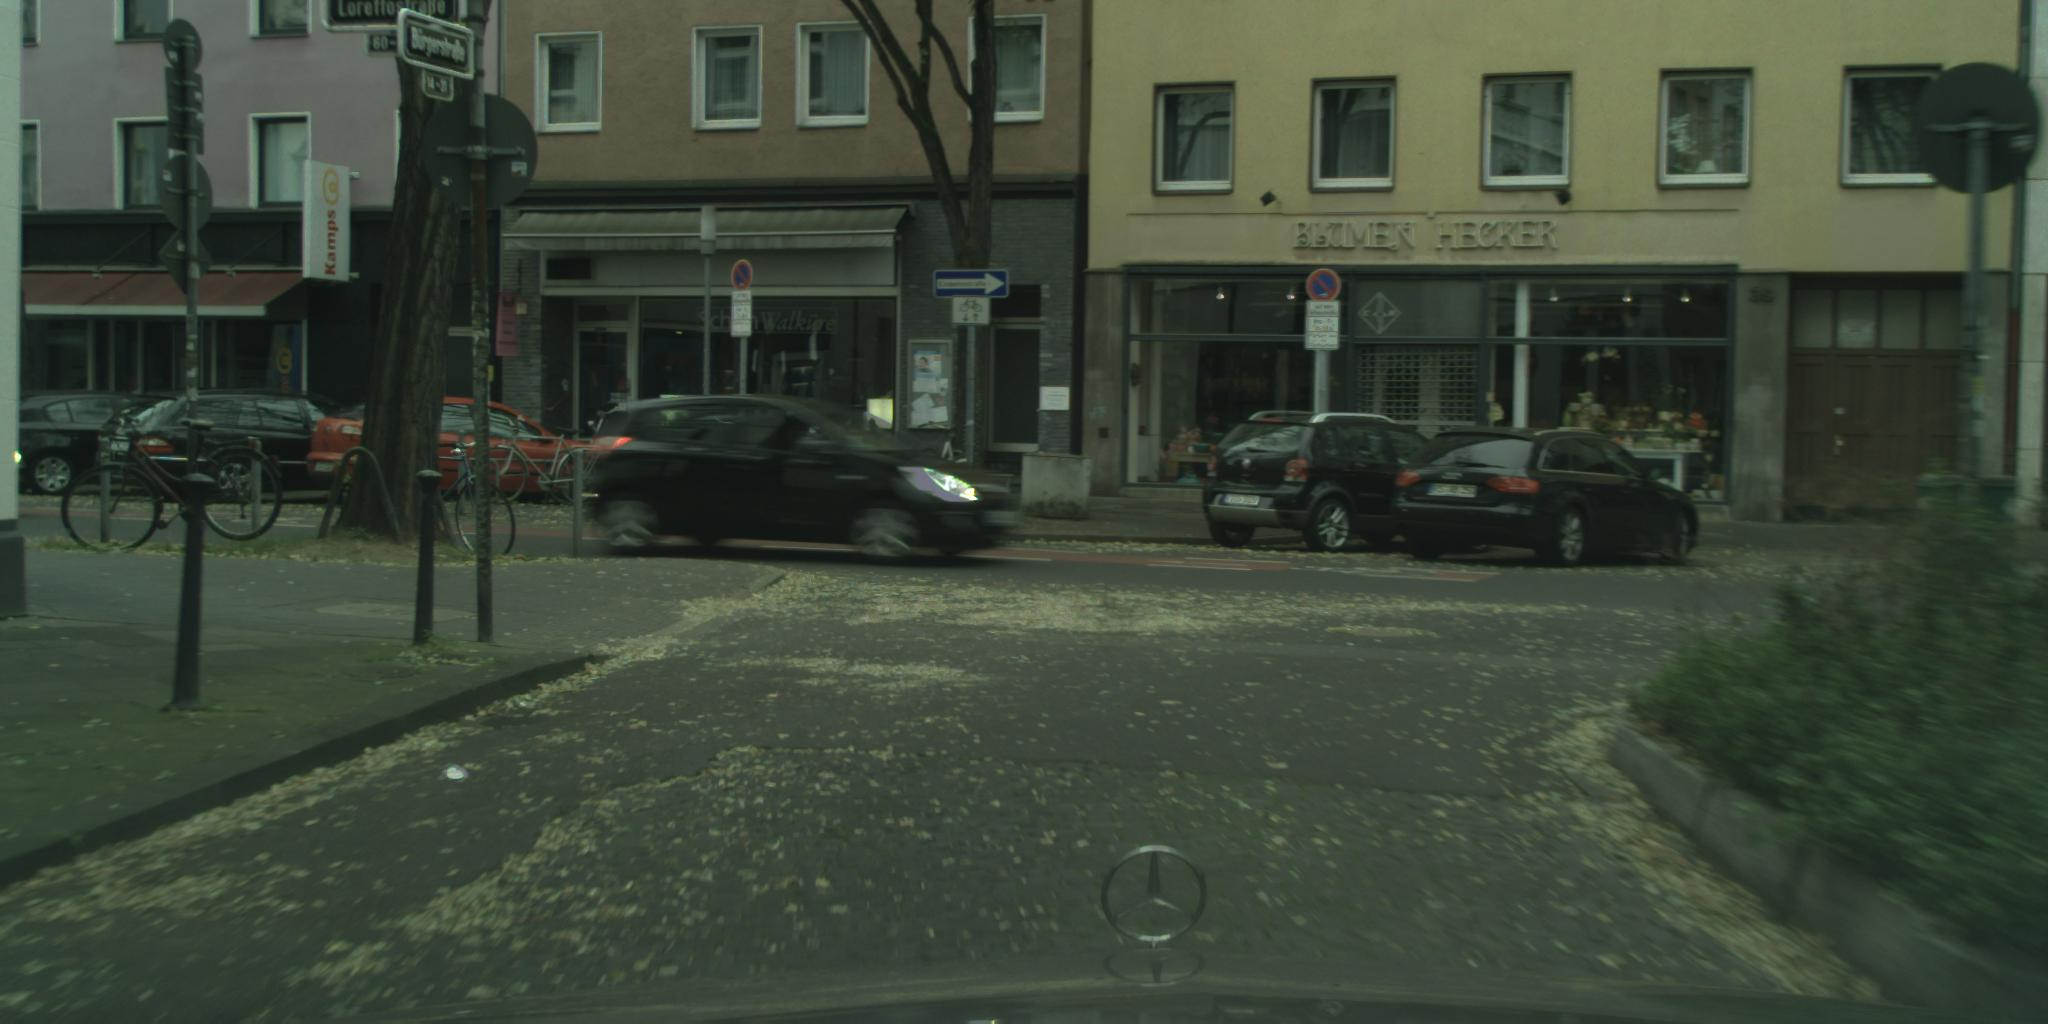bicycle: (61, 411, 285, 554), (470, 411, 618, 505), (434, 439, 516, 558), (917, 421, 987, 483)
car: (580, 394, 1019, 567), (1392, 424, 1702, 569), (1204, 411, 1490, 554), (308, 392, 609, 513), (91, 389, 358, 488), (8, 393, 172, 498)
